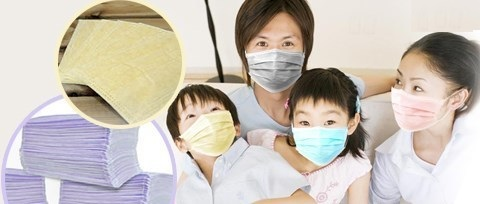face_mask: (391, 50, 449, 131), (246, 18, 303, 91), (293, 90, 349, 164), (179, 94, 234, 157)
